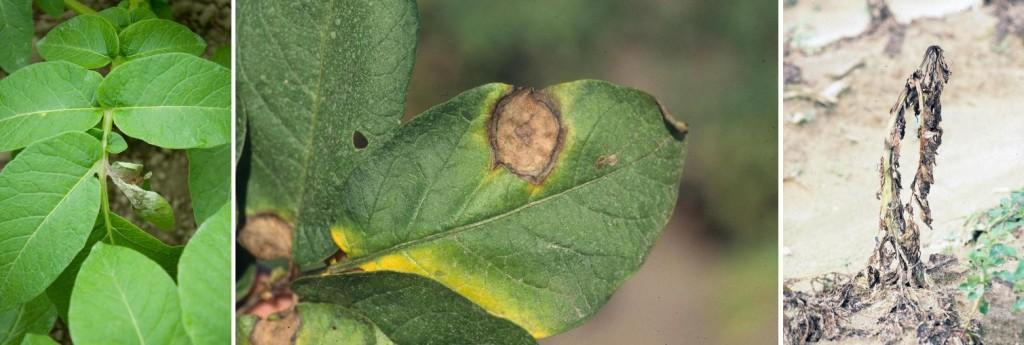Potato leaf: (298, 62, 700, 345)
